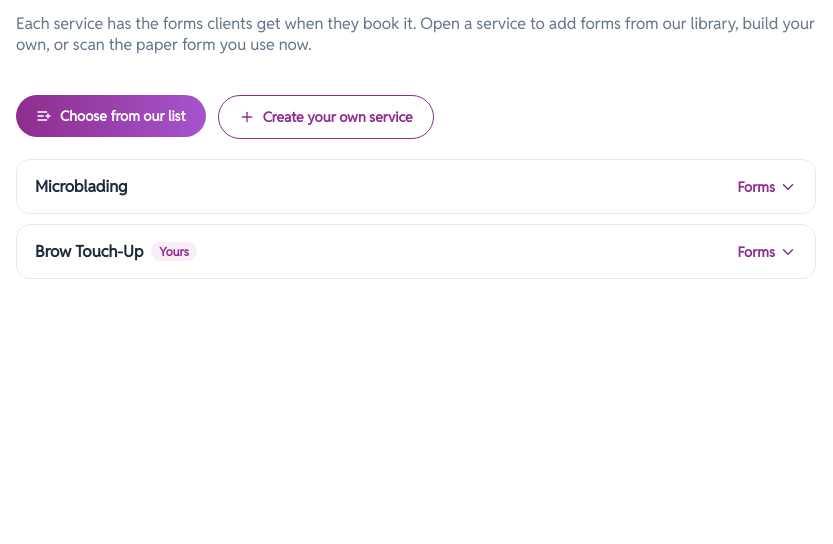
ServicesPage › lists services, marks the artist's own, and shows each one's forms
Expected: the button "Brow Touch-Up Yours Forms" is shown, [17,225,815,278]
Click the button "Microblading Forms" at x=81, y=186, box [17,160,815,213]
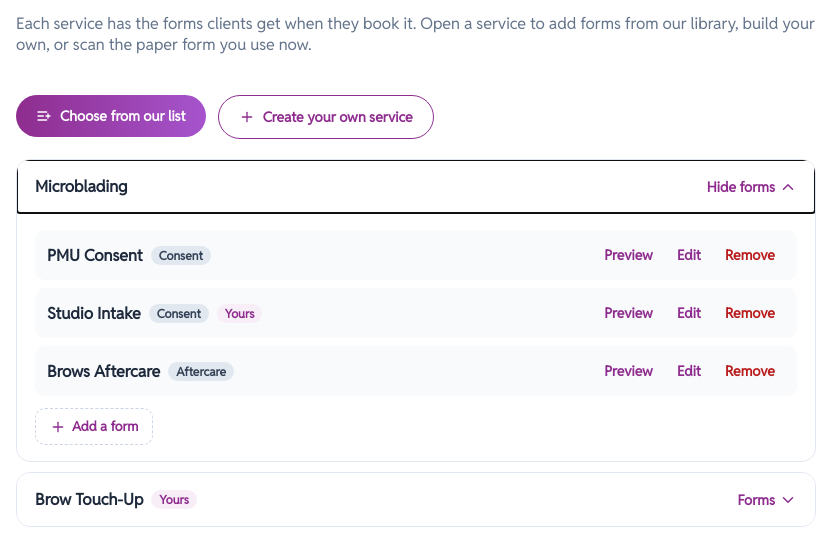
Expected: the list item "Studio Intake Consent Yours Preview Edit Remove" is shown, [35,288,797,338]
